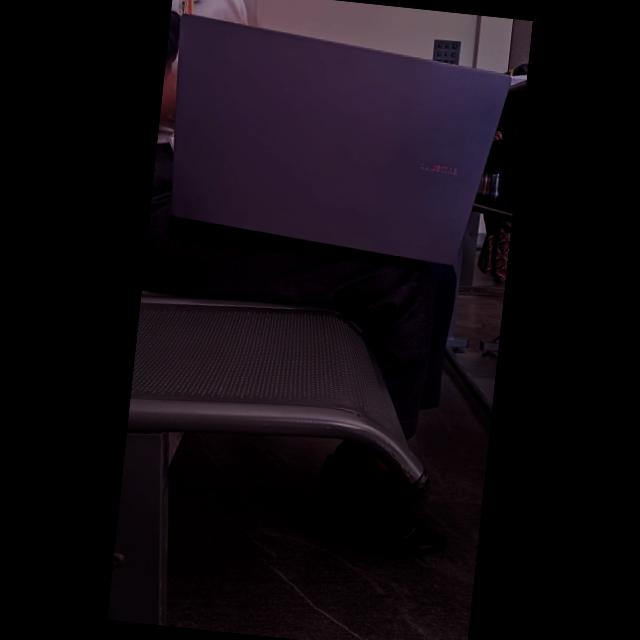laptop: (147, 31, 524, 272)
